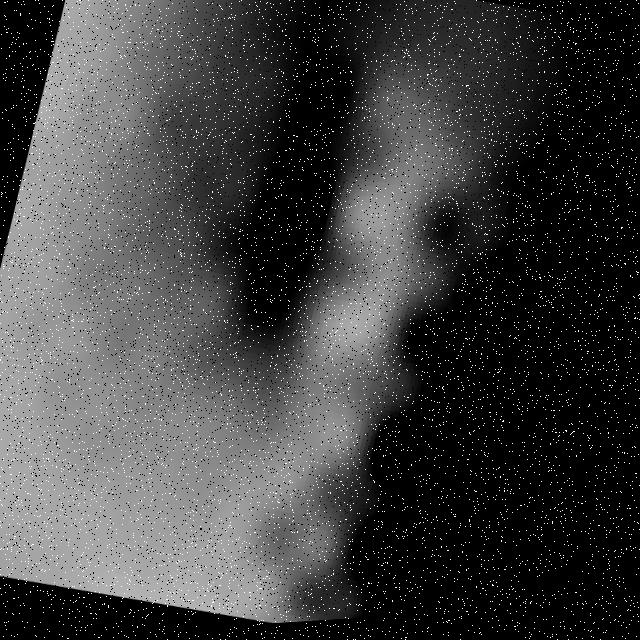person: (1, 1, 599, 640)
